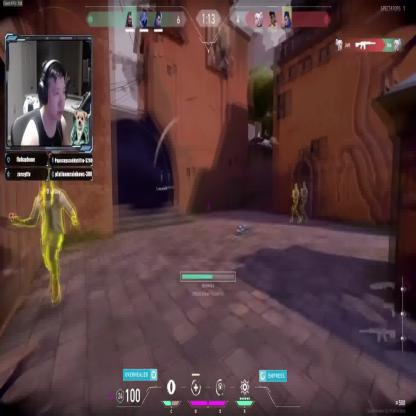enemy: (10, 172, 81, 303), (290, 182, 302, 223)
enemy_head: (41, 172, 53, 195), (294, 183, 298, 190)
